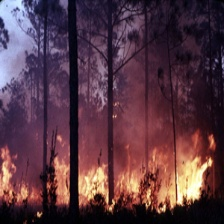fire: (2, 136, 217, 214)
smoke: (26, 9, 195, 132)
